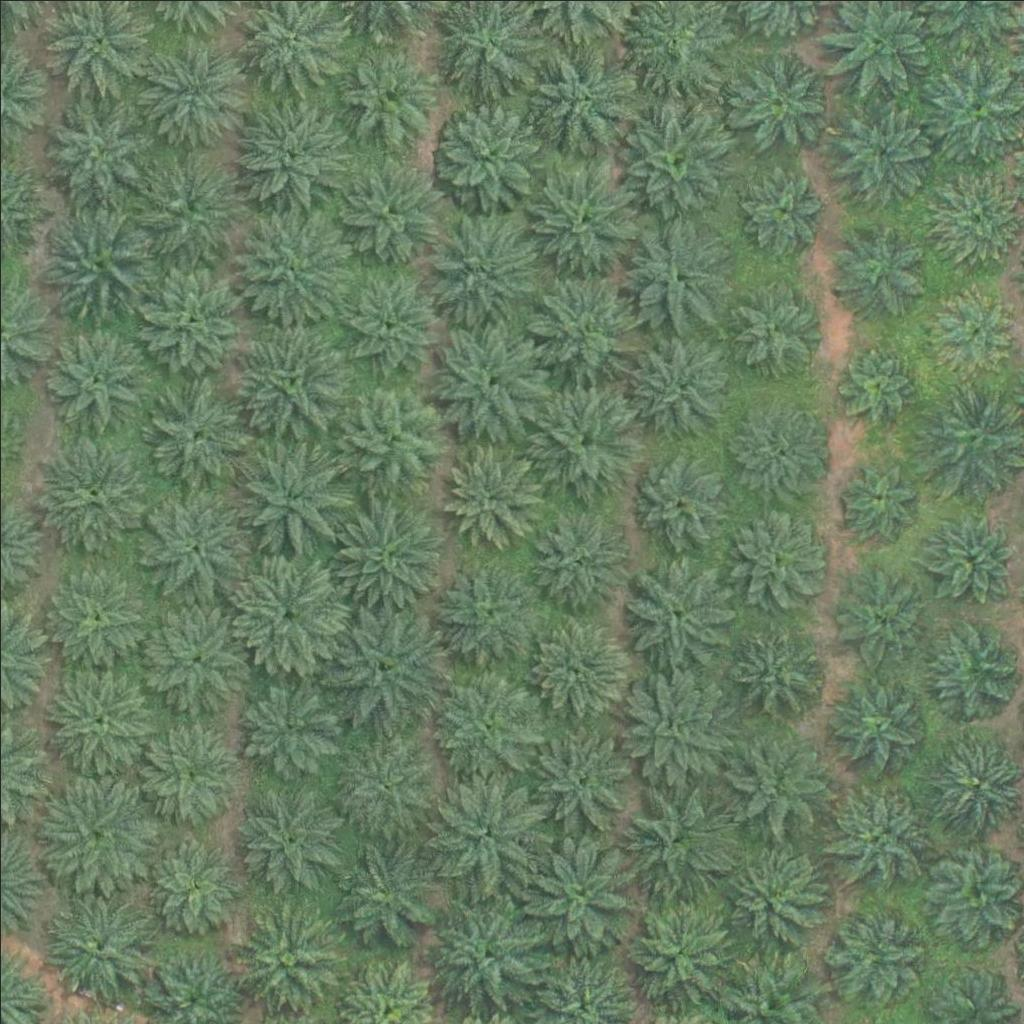Kelapa_Sawit: (326, 838, 439, 952), (337, 382, 450, 496), (232, 324, 345, 438), (232, 206, 345, 320), (133, 150, 246, 264), (132, 35, 245, 149), (42, 889, 155, 1002), (37, 775, 150, 888), (230, 556, 343, 669), (233, 444, 346, 557), (329, 726, 442, 839), (324, 607, 437, 720), (331, 495, 444, 608), (429, 895, 542, 1008), (427, 773, 540, 886), (622, 671, 735, 784), (622, 555, 735, 668), (624, 443, 737, 556), (623, 330, 736, 443), (617, 217, 730, 330), (617, 103, 730, 216), (527, 162, 640, 275), (525, 36, 638, 149), (236, 94, 349, 207), (233, 903, 345, 1017), (37, 660, 149, 774), (234, 779, 346, 893), (132, 260, 244, 374), (40, 95, 152, 209), (35, 435, 147, 548), (136, 598, 248, 711), (132, 488, 244, 601), (427, 667, 539, 780), (429, 554, 541, 667), (522, 836, 634, 949), (525, 725, 637, 838), (622, 892, 734, 1005), (619, 777, 731, 890), (817, 777, 929, 890), (532, 384, 644, 497), (529, 268, 641, 381), (430, 324, 542, 437), (424, 212, 536, 325), (430, 100, 542, 213), (331, 157, 443, 270), (138, 379, 250, 492), (40, 203, 152, 316), (438, 447, 538, 548), (530, 615, 630, 716), (525, 509, 625, 610), (727, 845, 827, 946), (730, 732, 830, 833), (728, 619, 828, 720), (820, 906, 920, 1007), (827, 672, 927, 773), (825, 223, 925, 324), (830, 98, 930, 199), (724, 273, 824, 374), (731, 50, 831, 151), (334, 46, 434, 147), (42, 326, 142, 427), (44, 564, 144, 664), (143, 832, 243, 932), (138, 718, 238, 818), (235, 674, 335, 774), (727, 504, 827, 604), (727, 400, 827, 500), (829, 568, 929, 668), (339, 269, 439, 369), (930, 283, 1018, 371), (829, 343, 917, 431), (739, 167, 827, 255), (929, 514, 1016, 602), (931, 178, 1018, 266), (842, 460, 917, 536)
